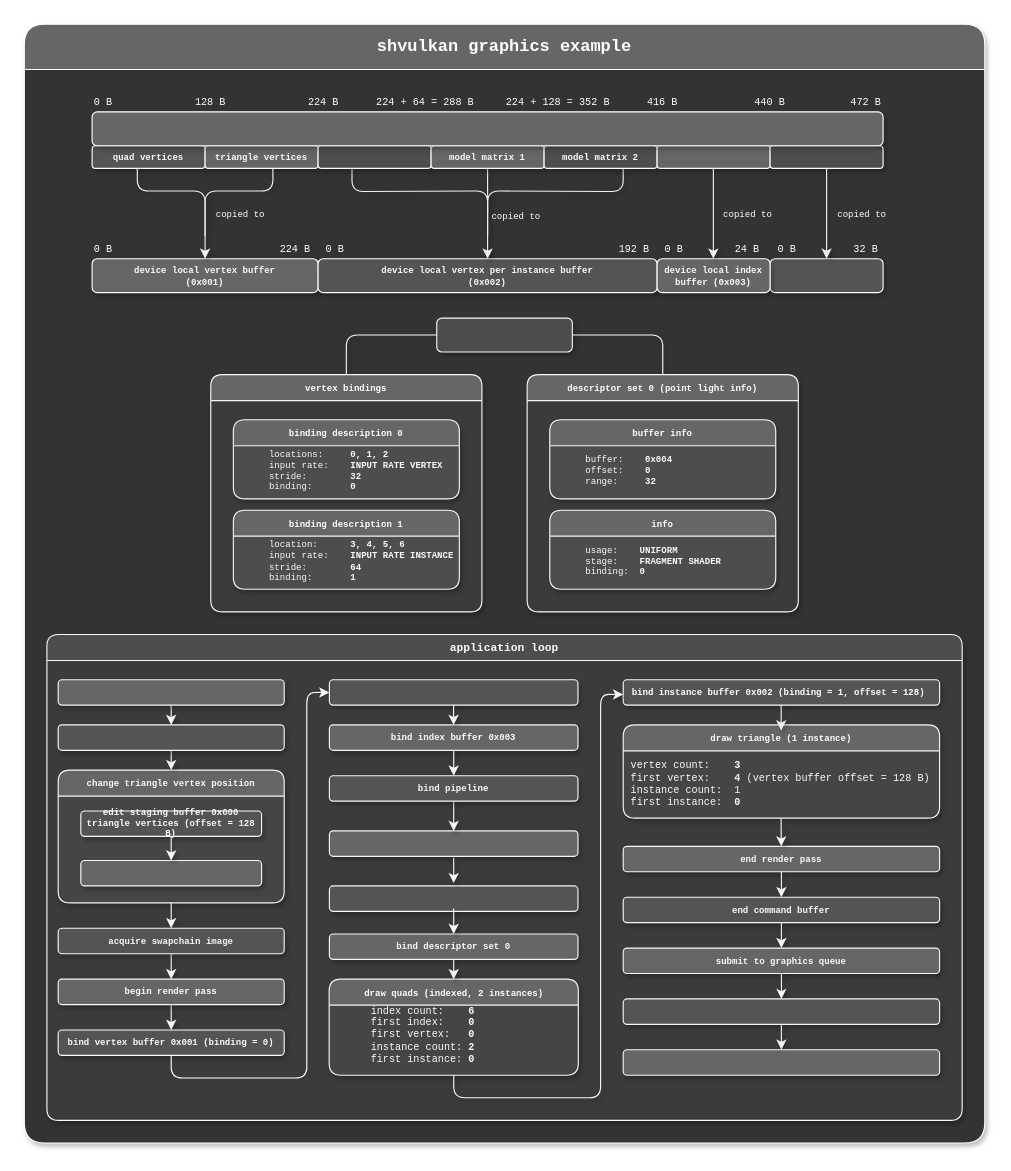
The diagram is 1011 pixels wide and 1171 high, and some of its shapes have lost their labels. The shapes that lost their labels are listed below. From the top down, each one's centre as x and y in pixels, then its label:
At point 488,130: "host visible staging buffer (0x000)".
At point 375,158: "model matrix 0".
At point 714,158: "quad indices".
At point 827,158: "point light data".
At point 827,277: "device local descriptor buffer (0x004)".
At point 505,336: "pipeline".
At point 172,693: "reset fence".
At point 454,693: "bind instance buffer 0x002 (binding = 1)".
At point 172,738: "begin command buffer".
At point 454,844: "push constant data".
At point 171,874: "copy staging buffer 0x000 vertices to device local vertex buffer 0x001".
At point 454,899: "update descriptor set 0".
At point 782,1012: "present swapchain image".
At point 782,1063: "wait for fence to be signaled".
